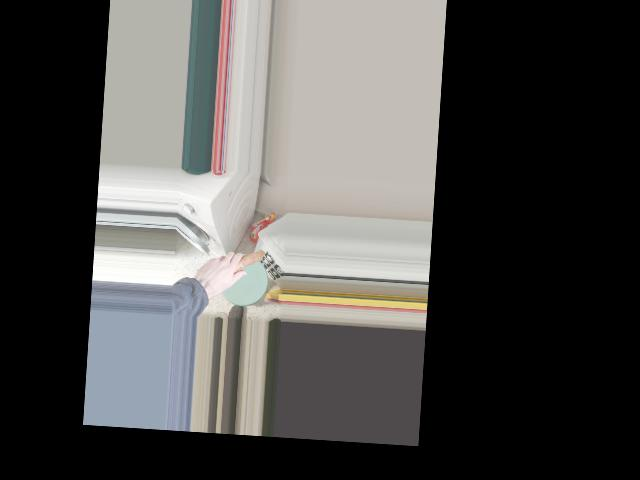sweet_potato: (209, 246, 263, 288)
